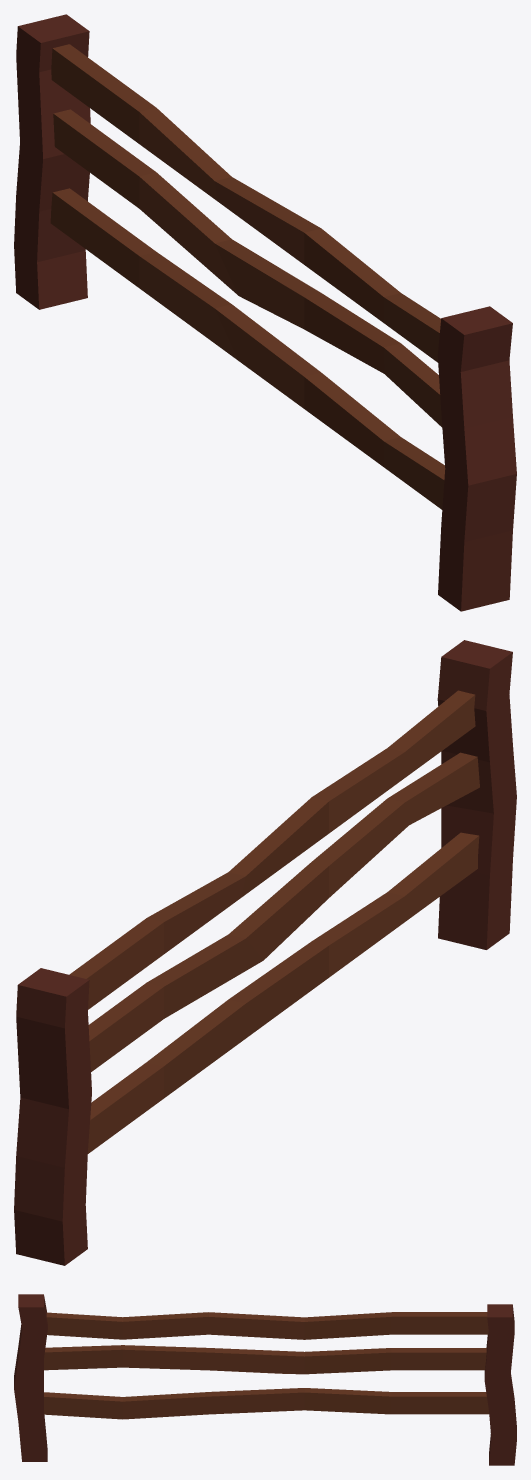
File: Fence.fbx
The picture shows the model from 3 angles, top to bottom: view 1: azimuth 30°, elevation 25°; view 2: azimuth 150°, elevation 25°; view 3: azimuth 270°, elevation 25°; orthographic projection. The views are drawn at different scales.
Visible parts, largest first — view 1: Cube, Cube.002, Cube.003, Cube.004, Cube.001; view 2: Cube.001, Cube.002, Cube.003, Cube.004, Cube; view 3: Cube.002, Cube.003, Cube.004, Cube, Cube.001.
Part boxes in pixels (x1,y1,x2,y2): Cube: [437, 306, 516, 611]; Cube.002: [50, 188, 445, 509]; Cube.003: [53, 109, 442, 427]; Cube.004: [51, 44, 440, 362]; Cube.001: [14, 14, 90, 309]; Cube.001: [14, 968, 91, 1265]; Cube.002: [88, 832, 479, 1153]; Cube.003: [88, 752, 479, 1071]; Cube.004: [69, 690, 475, 1009]; Cube: [437, 640, 516, 949]; Cube.002: [44, 1388, 489, 1419]; Cube.003: [44, 1345, 486, 1374]; Cube.004: [46, 1312, 488, 1339]; Cube: [14, 1294, 47, 1461]; Cube.001: [484, 1304, 516, 1465].
Bounding box in the file's own units: 317 × 1773 × 5104.
